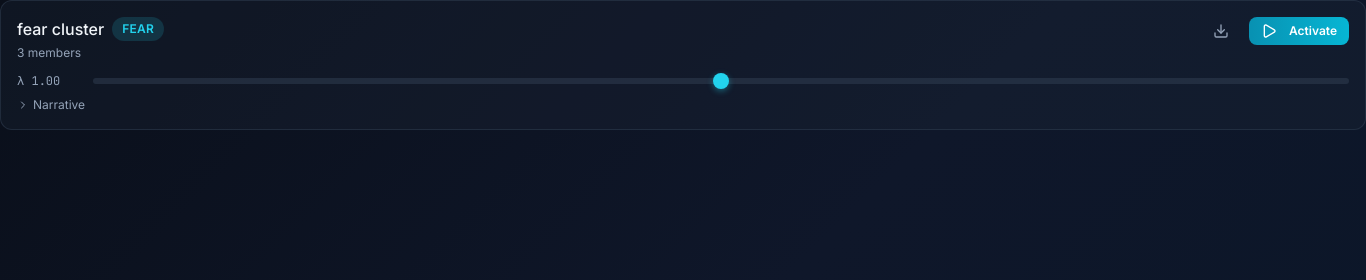
Test: ClusterCard › toggles the narrative
Expected: the text "Steers toward fear." is not shown
Click the button "Narrative" at point(51, 105), box [17,97,85,113]
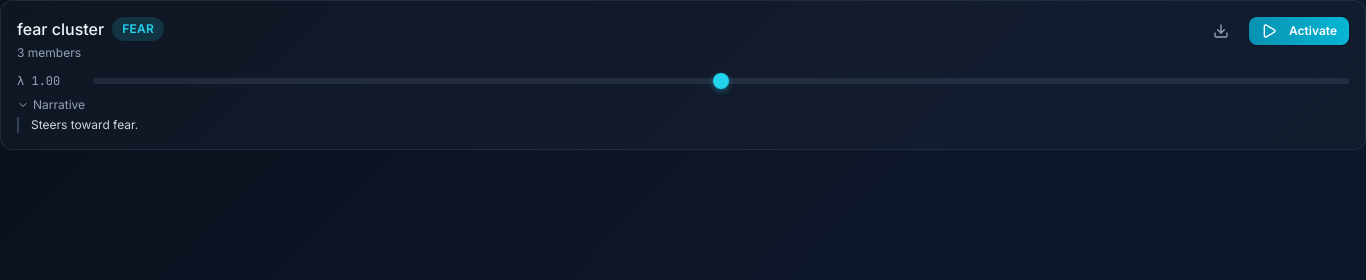
Now the text "Steers toward fear." is shown, box [17,117,1349,133]
